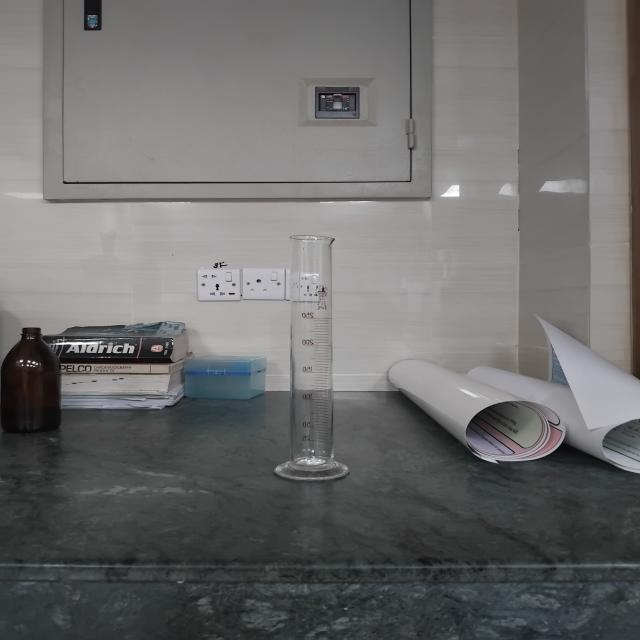Measuring_Cylinder: (242, 195, 395, 502)
